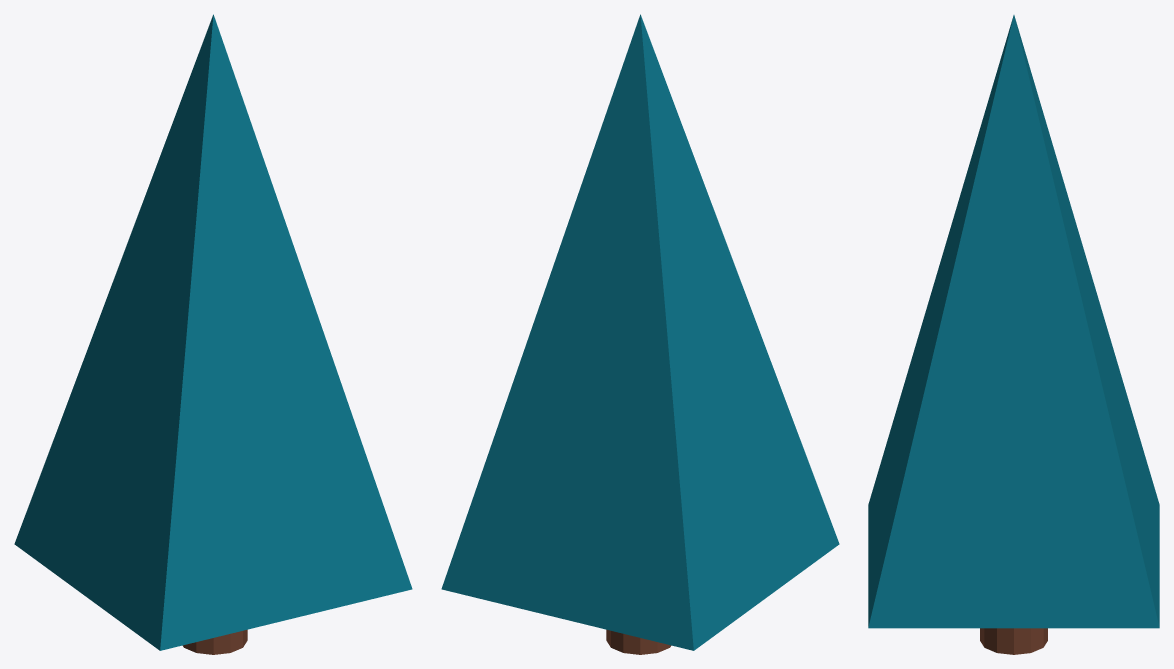
Rendered from Tree_36_summer_blue_vc.fbx.
3 views of the same model, side by side, from view 1: azimuth 30°, elevation 25°; view 2: azimuth 150°, elevation 25°; view 3: azimuth 270°, elevation 25° (orthographic).
Visible parts, largest first — view 1: Tree_36_summer_blue_vc; view 2: Tree_36_summer_blue_vc; view 3: Tree_36_summer_blue_vc.
Boxes of the visible parts, x1=… form: Tree_36_summer_blue_vc: x1=14, y1=14, x2=412, y2=654; Tree_36_summer_blue_vc: x1=441, y1=14, x2=839, y2=654; Tree_36_summer_blue_vc: x1=868, y1=15, x2=1159, y2=654.
Bounding box in the file's own units: 69.07 × 164 × 69.07.
